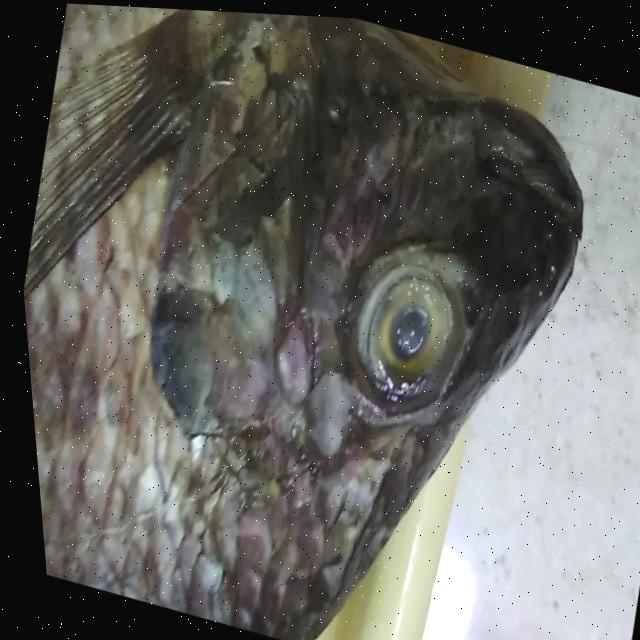Non-Fresh: (0, 0, 406, 639), (309, 220, 488, 448)
